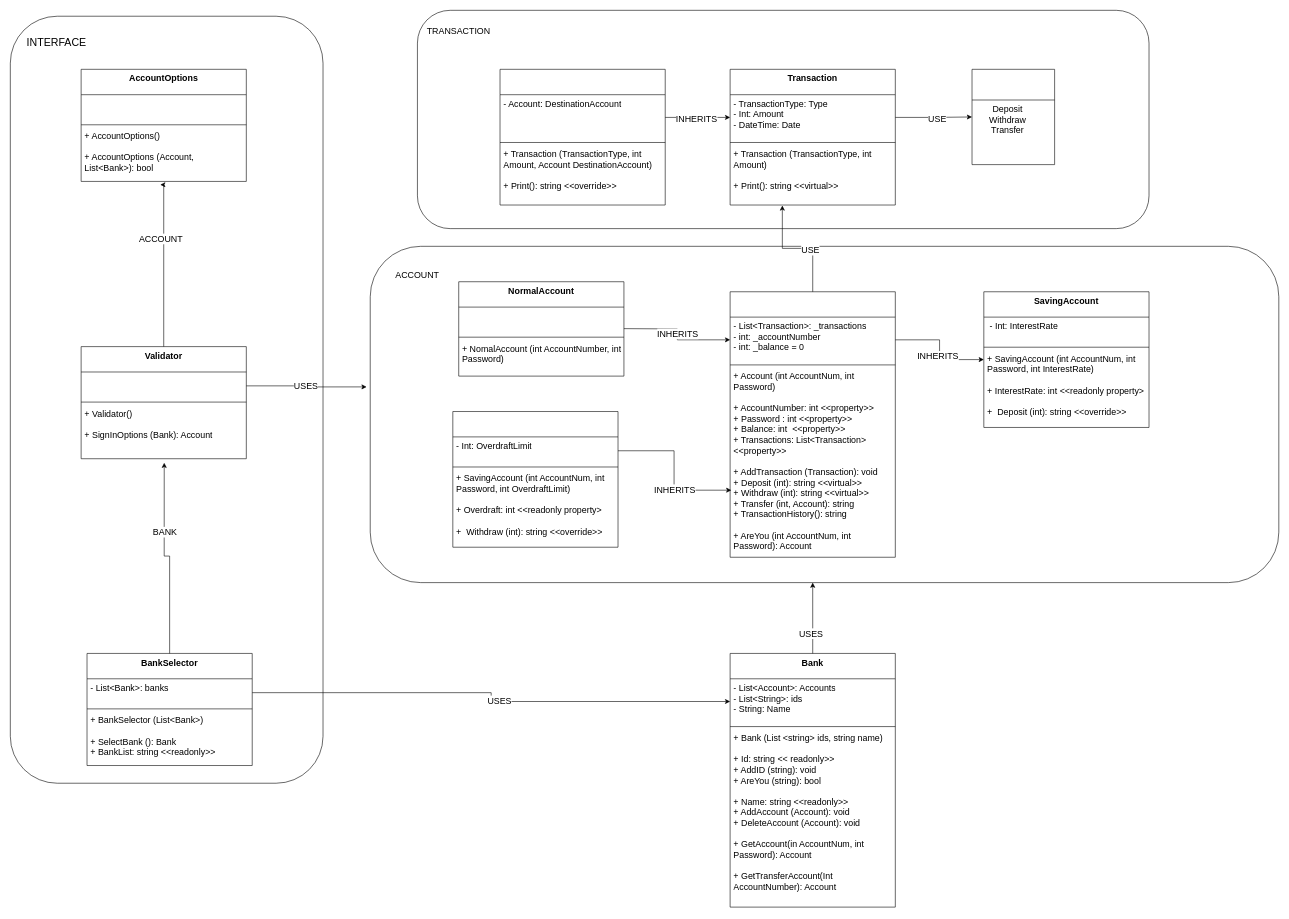
This 1289x919 diagram has some shape labels left out. The shapes that lost their labels are listed below. From the top down, each one's box as (x1, y1, x2, y2) in pixels, then its label:
(499, 69, 665, 205): TransferTransaction
(971, 69, 1055, 165): <<enum> TransactionType
(730, 291, 895, 557): <<abstract>> Account
(452, 411, 618, 547): CheckingAccount
